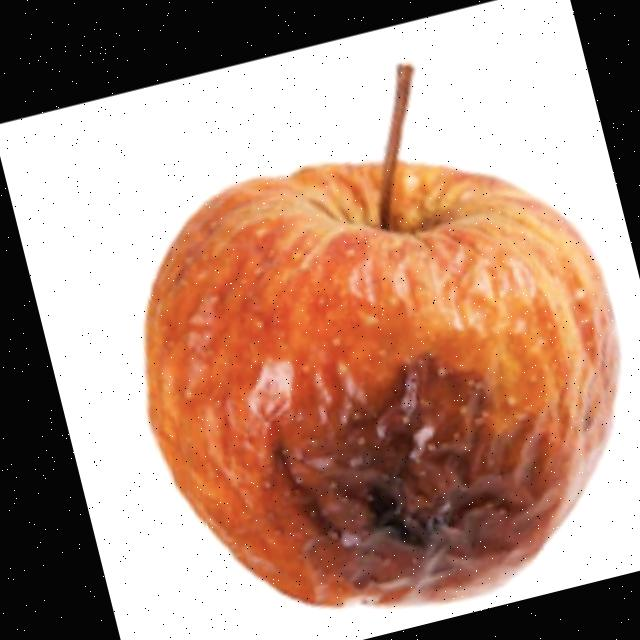Rotten: (87, 91, 640, 640)
